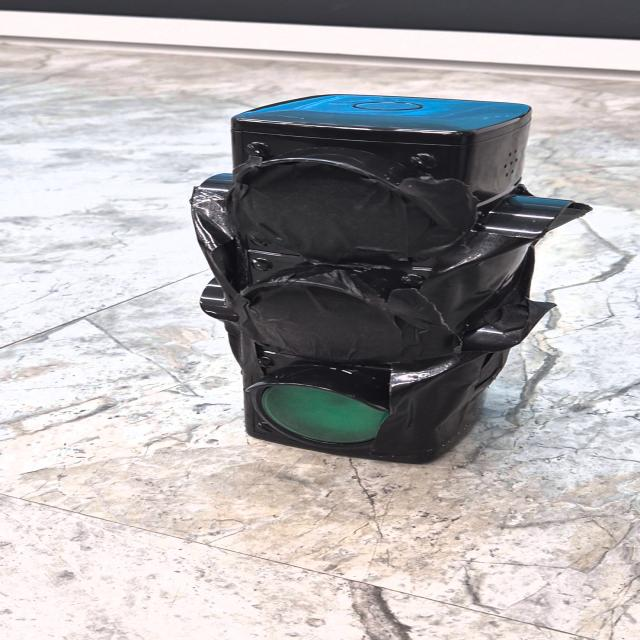green_light: (262, 385, 388, 443)
